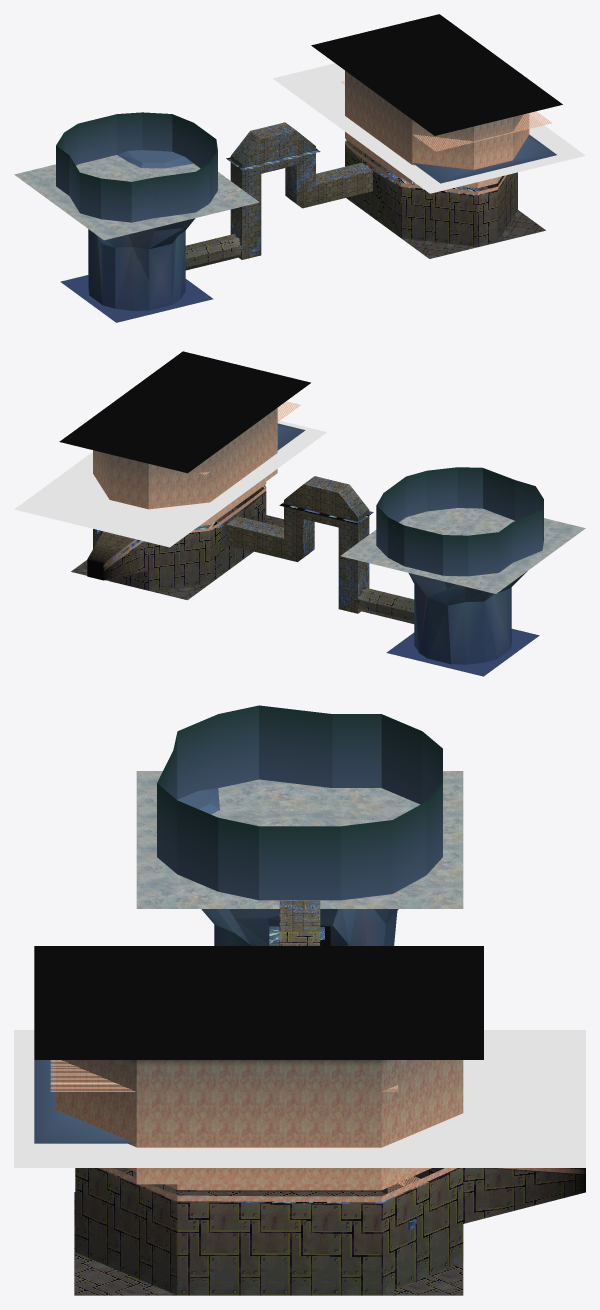
File: water_land_all.glb
The picture shows the model from 3 angles, top to bottom: view 1: azimuth 30°, elevation 25°; view 2: azimuth 150°, elevation 25°; view 3: azimuth 270°, elevation 25°; orthographic projection. The views are drawn at different scales.
Visible parts, largest first — view 1: water_land_all; view 2: water_land_all; view 3: water_land_all.
Part boxes in pixels (x1=…): water_land_all: x1=14, y1=14, x2=585, y2=322; water_land_all: x1=14, y1=351, x2=585, y2=676; water_land_all: x1=14, y1=705, x2=585, y2=1295.
Bounding box in the file's own units: 11.5 × 3.75 × 7.
Materials: 12 (11 with a texture image).
